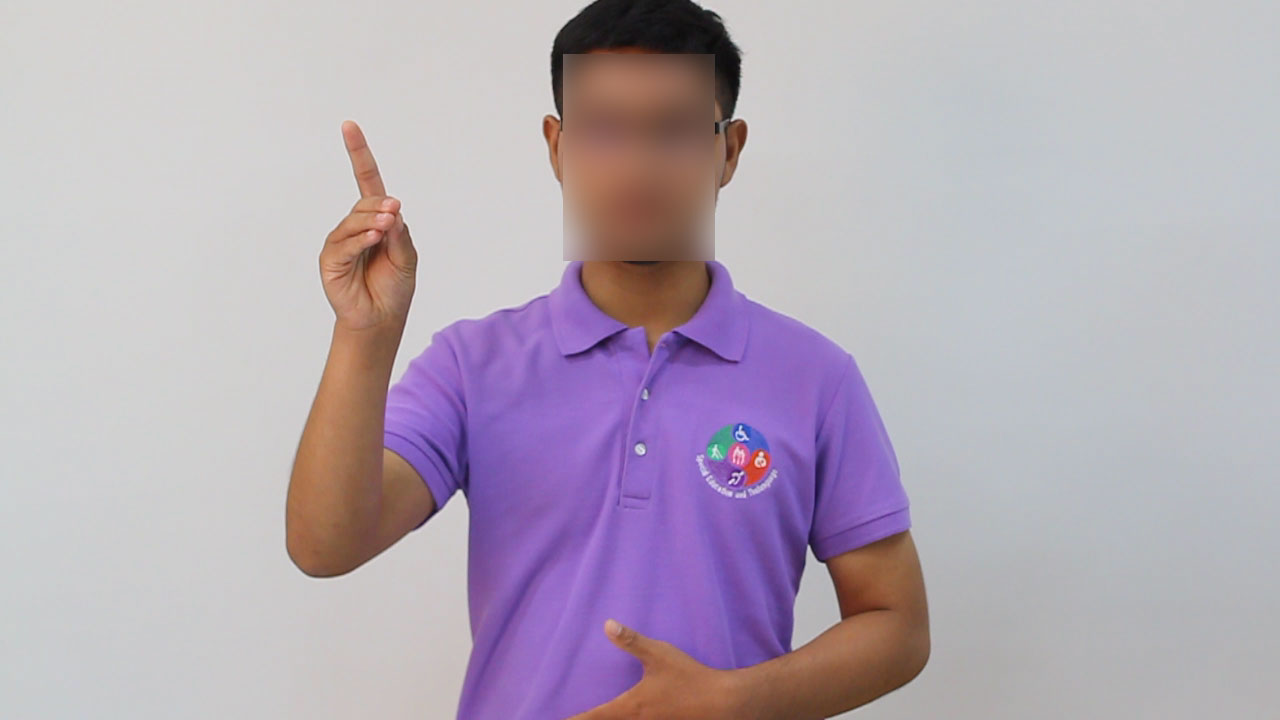dor: (309, 112, 424, 357)
